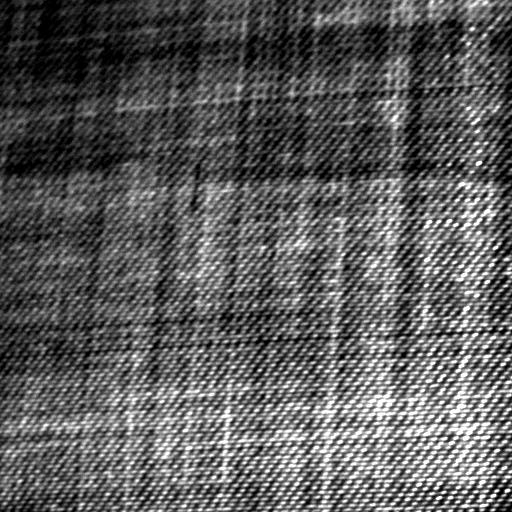fabric_perfect: (2, 4, 510, 510)
